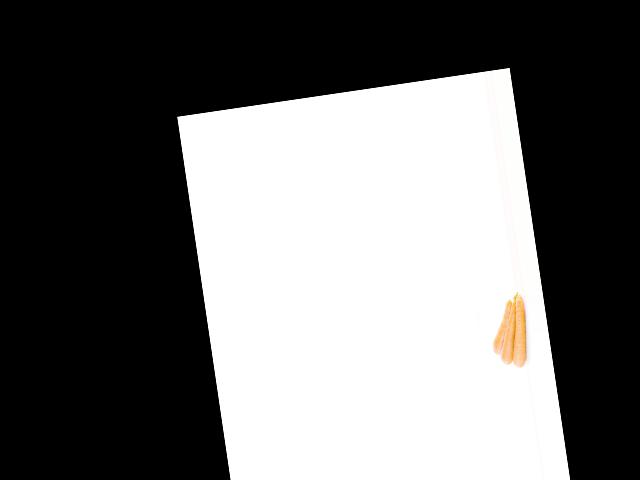carrot: (503, 293, 536, 370)
